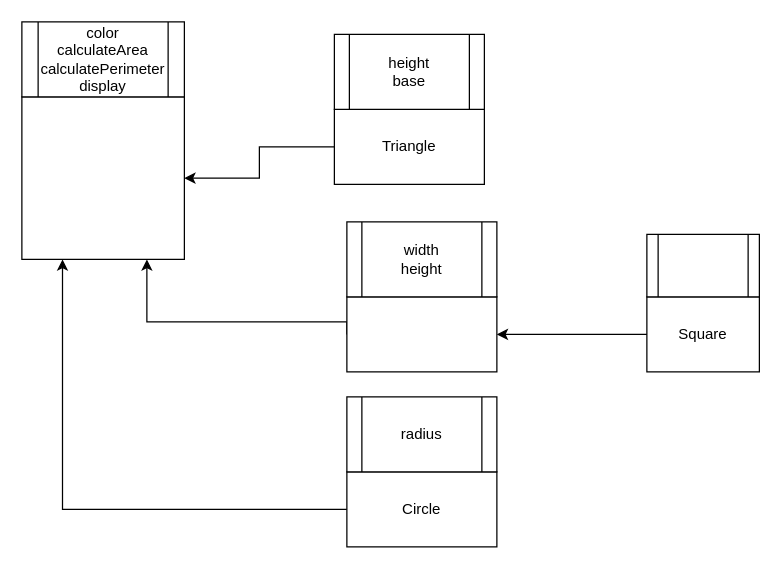
Some shapes in this 781 by 569 pixel diagram are drawn without their labels. The shapes that lost their labels are listed below. From the top down, each one's centre as x and y in pixels, then its label:
At [102,177]: "Shape".
At [421,334]: "Rectangle".
